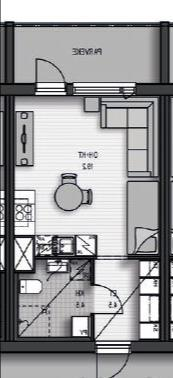bathroom: (19, 260, 92, 338)
door: (88, 282, 125, 316), (94, 344, 130, 378), (34, 56, 69, 90)
perimeter: (0, 82, 172, 352)
window: (70, 78, 138, 98)
